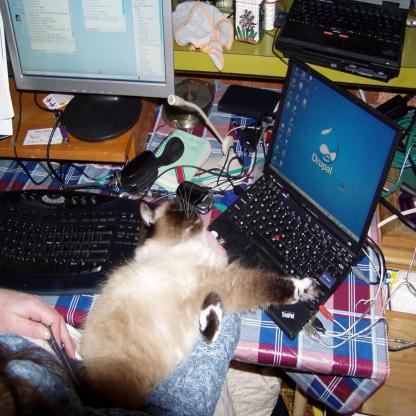board: (202, 72, 400, 322), (273, 0, 412, 83)
